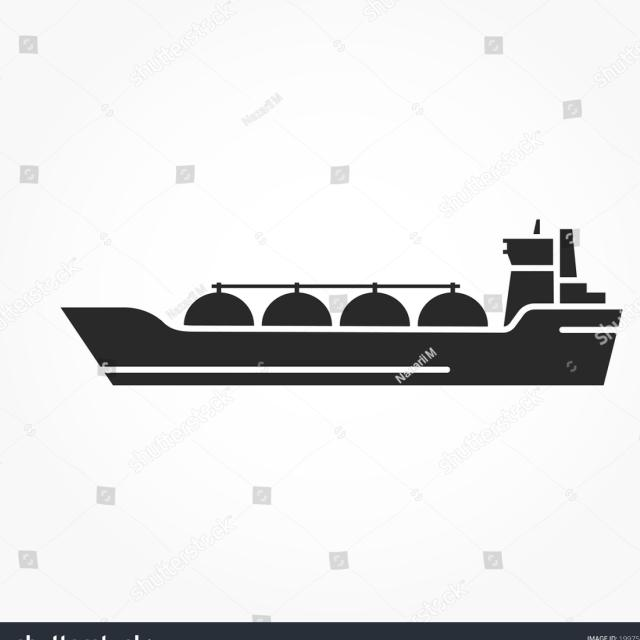boat: (40, 204, 640, 402)
